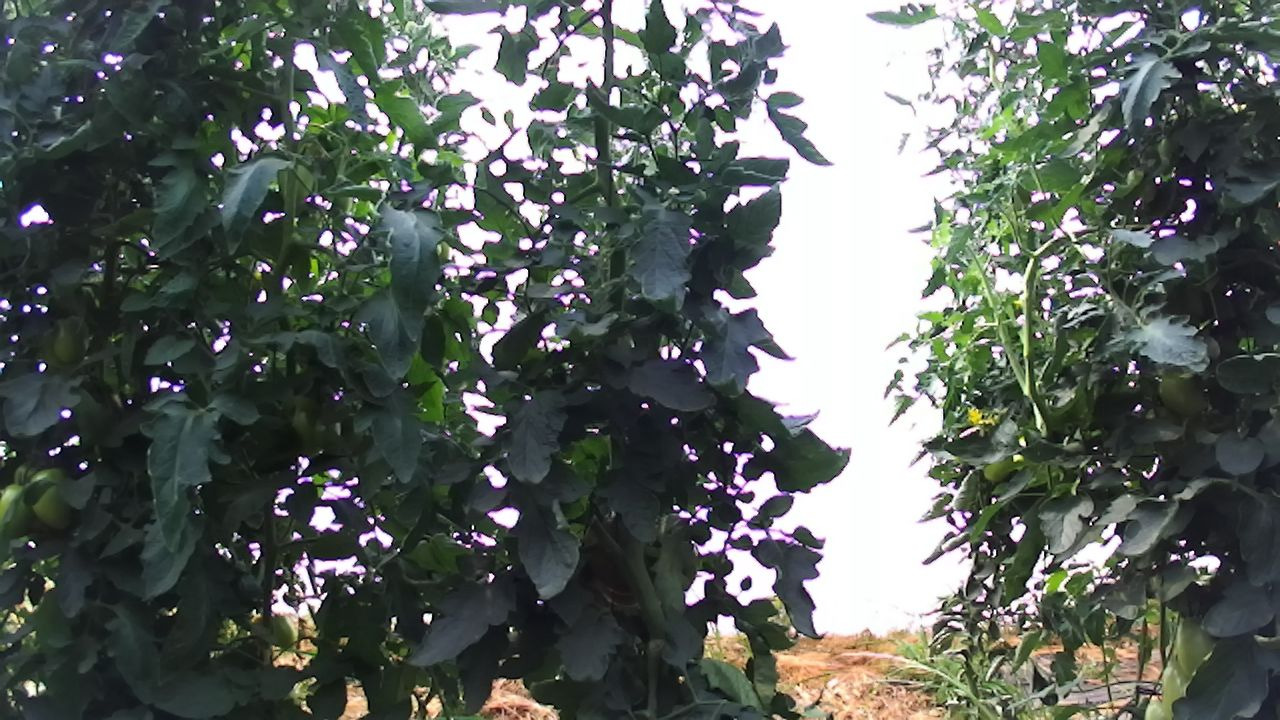tomato: (24, 460, 80, 536)
